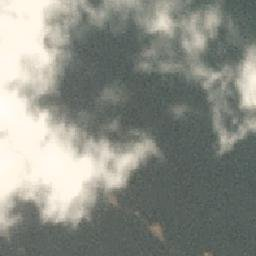cloud: (1, 1, 103, 236), (136, 6, 249, 75), (102, 91, 159, 190), (191, 81, 249, 154)
debris: (145, 219, 165, 241)
